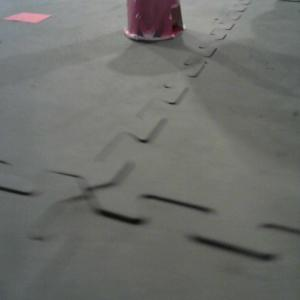right: (122, 1, 186, 42)
